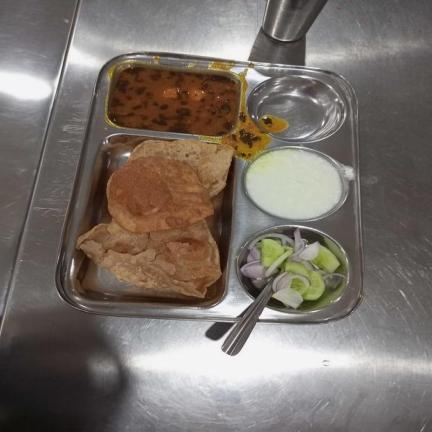Aalu Ki Sabji: (110, 66, 237, 138)
Dahi: (246, 147, 343, 220)
Plate: (54, 51, 366, 323)
Puri: (75, 138, 235, 299)
Salad: (241, 226, 341, 310)
